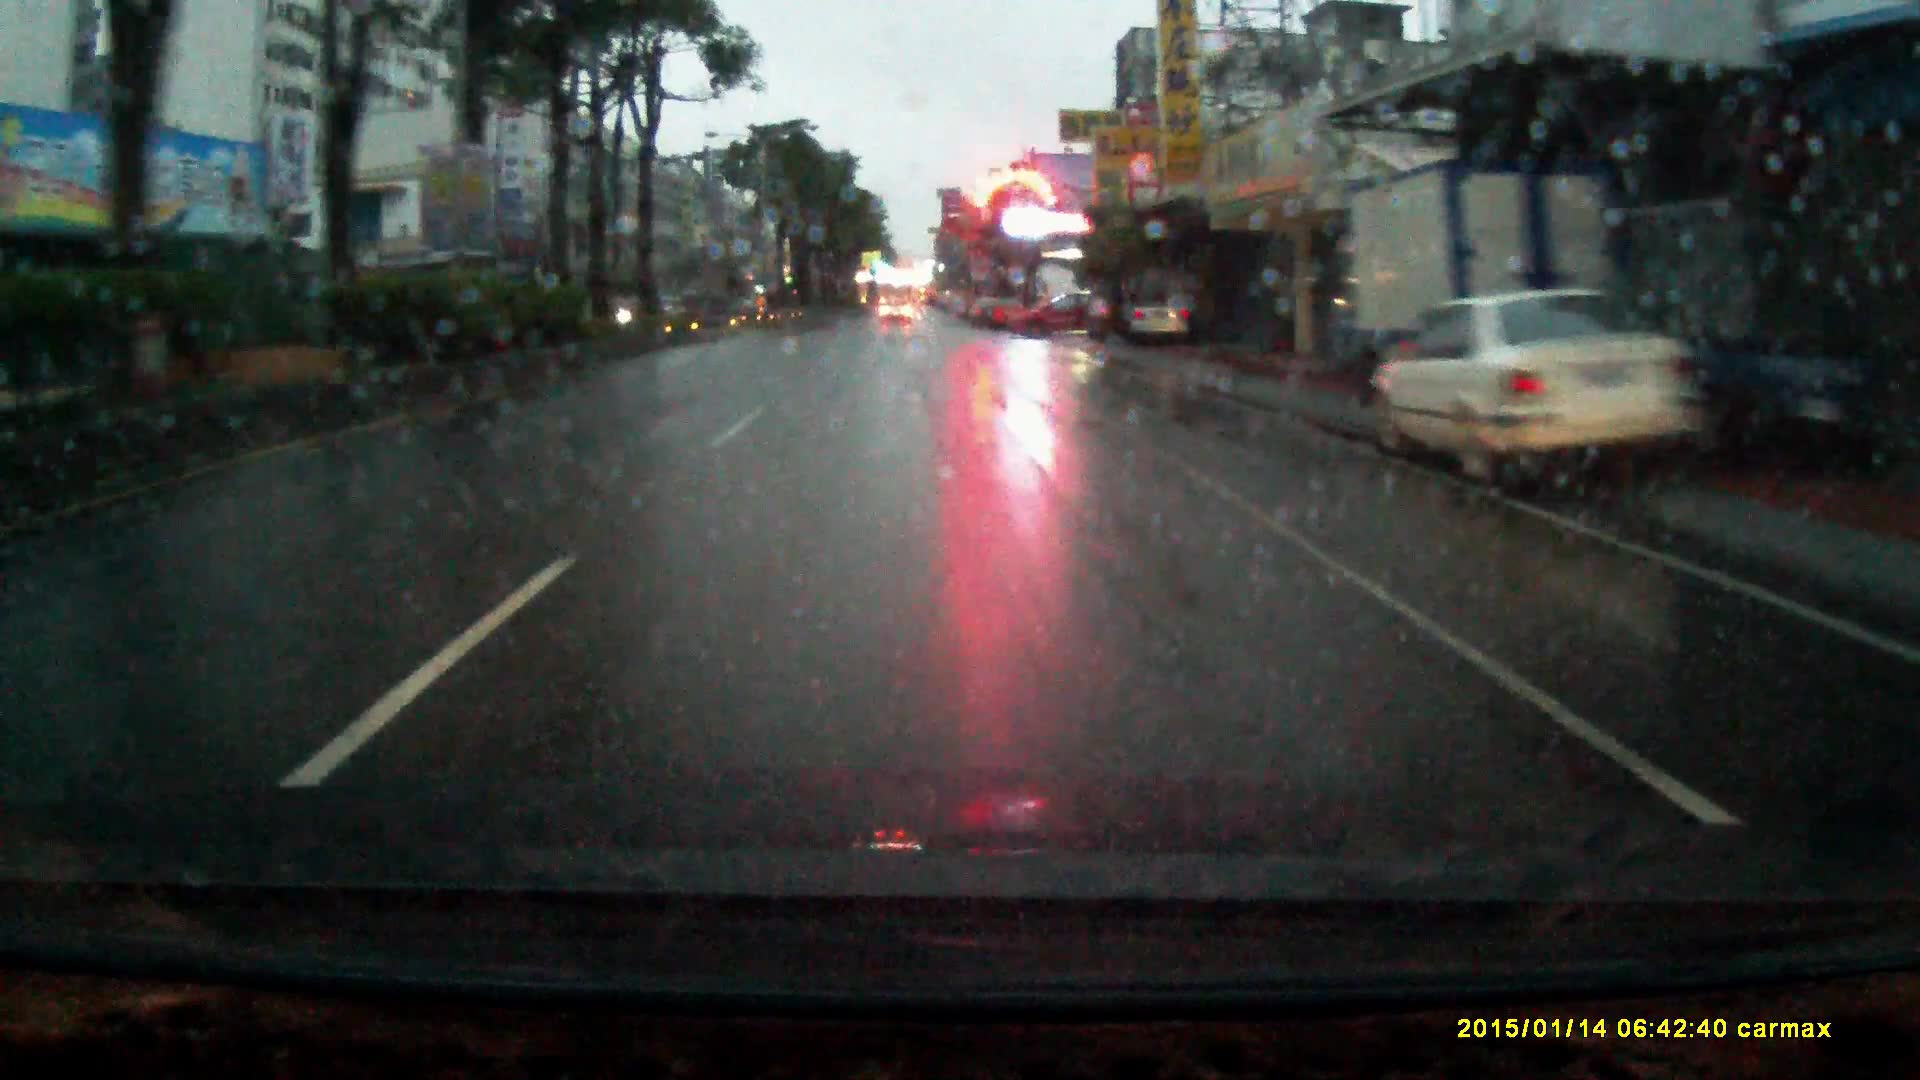vehicle: (1323, 131, 1660, 409), (1364, 289, 1720, 491), (1619, 207, 1888, 458), (1007, 291, 1109, 342), (1116, 291, 1193, 344), (1087, 290, 1150, 340), (984, 298, 1027, 330), (881, 301, 913, 327)
